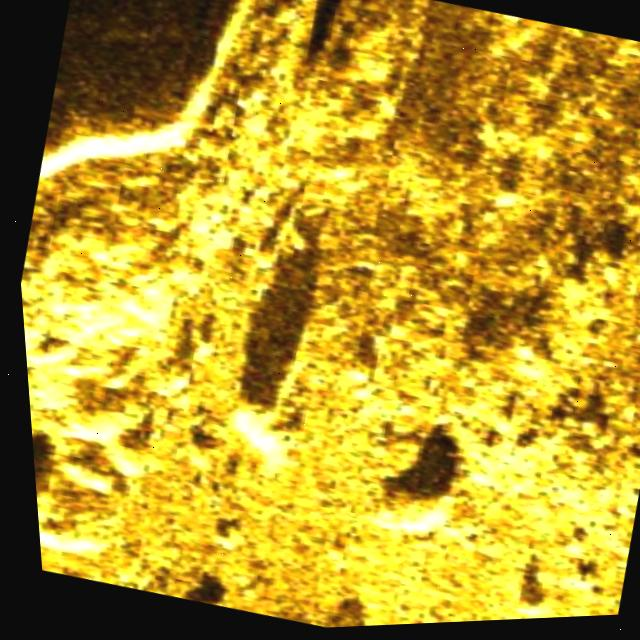bedrock group: (0, 0, 460, 635)
